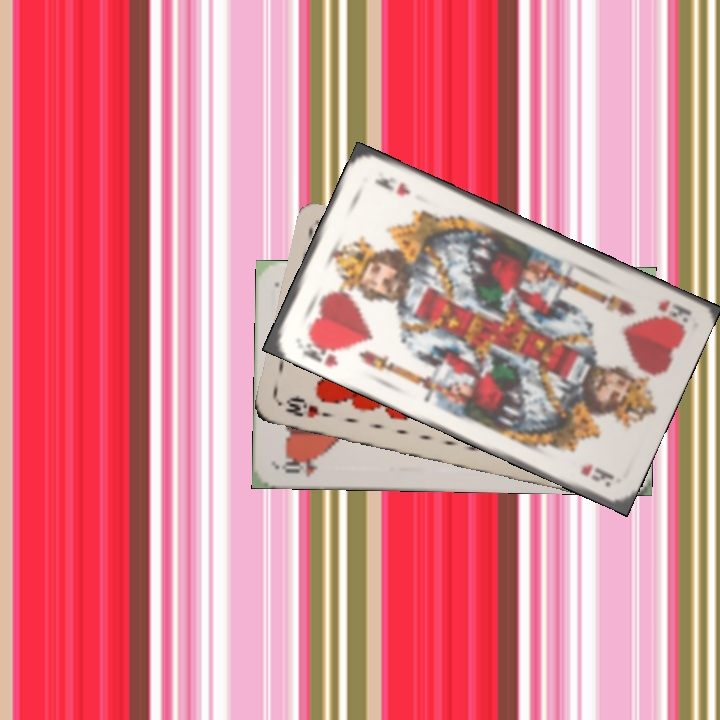H10: (280, 393, 336, 421)
HK: (298, 331, 345, 370), (653, 295, 692, 327)
HO: (277, 453, 321, 479)
